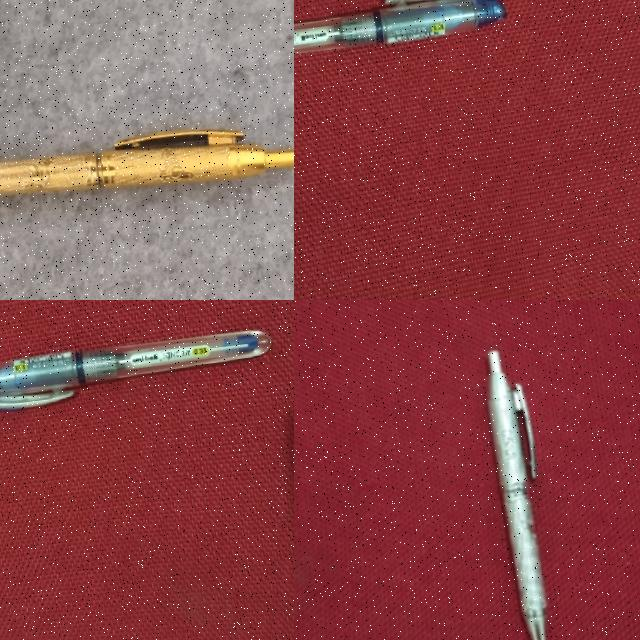pen: (0, 330, 270, 409), (294, 0, 505, 53)
signature pen: (484, 348, 549, 640), (0, 131, 293, 194)
